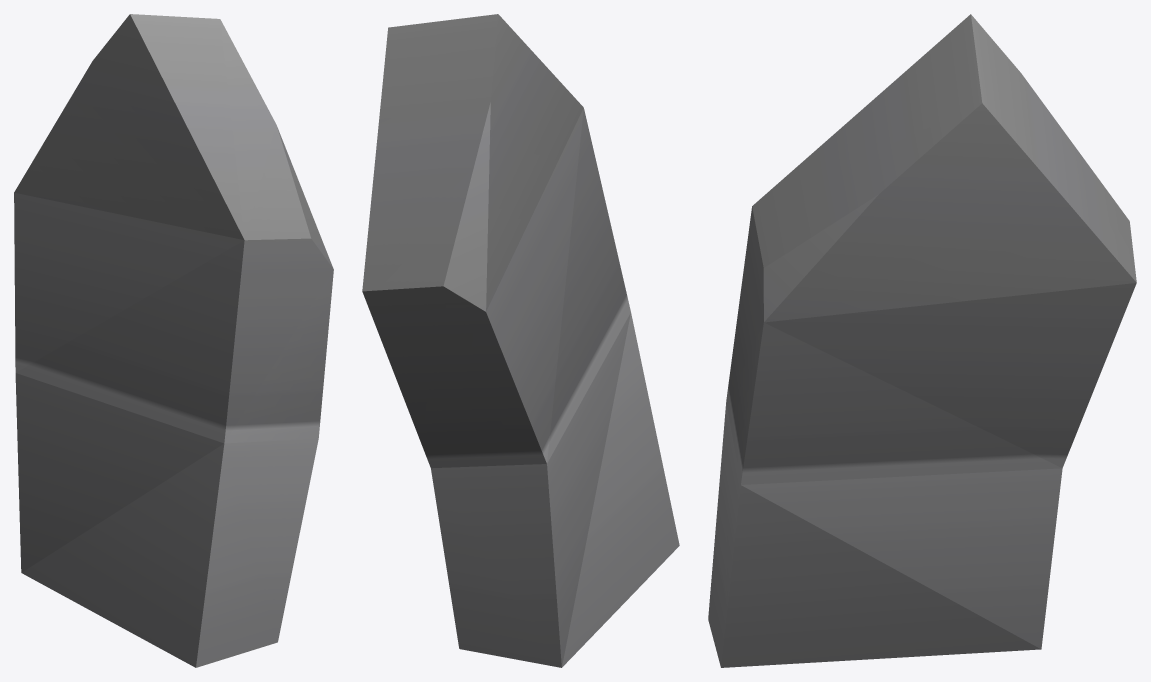
The model's file is ea_grave_stone_mini_01c_pre__2__lev1.glb.
3 views of the same model, side by side, from view 1: azimuth 30°, elevation 25°; view 2: azimuth 150°, elevation 25°; view 3: azimuth 270°, elevation 25° (orthographic). The views are drawn at different scales.
Visible parts, largest first — view 1: ea_grave_stone_mini_01c_pre__2__lev1; view 2: ea_grave_stone_mini_01c_pre__2__lev1; view 3: ea_grave_stone_mini_01c_pre__2__lev1.
Boxes of the visible parts, x1,y1,x2,y2 form: ea_grave_stone_mini_01c_pre__2__lev1: (14,14,333,667); ea_grave_stone_mini_01c_pre__2__lev1: (362,14,679,667); ea_grave_stone_mini_01c_pre__2__lev1: (708,14,1136,667).
Size of the model in its own units: 0.2575 by 0.6991 by 0.4291.
1 material, 1 textured.
